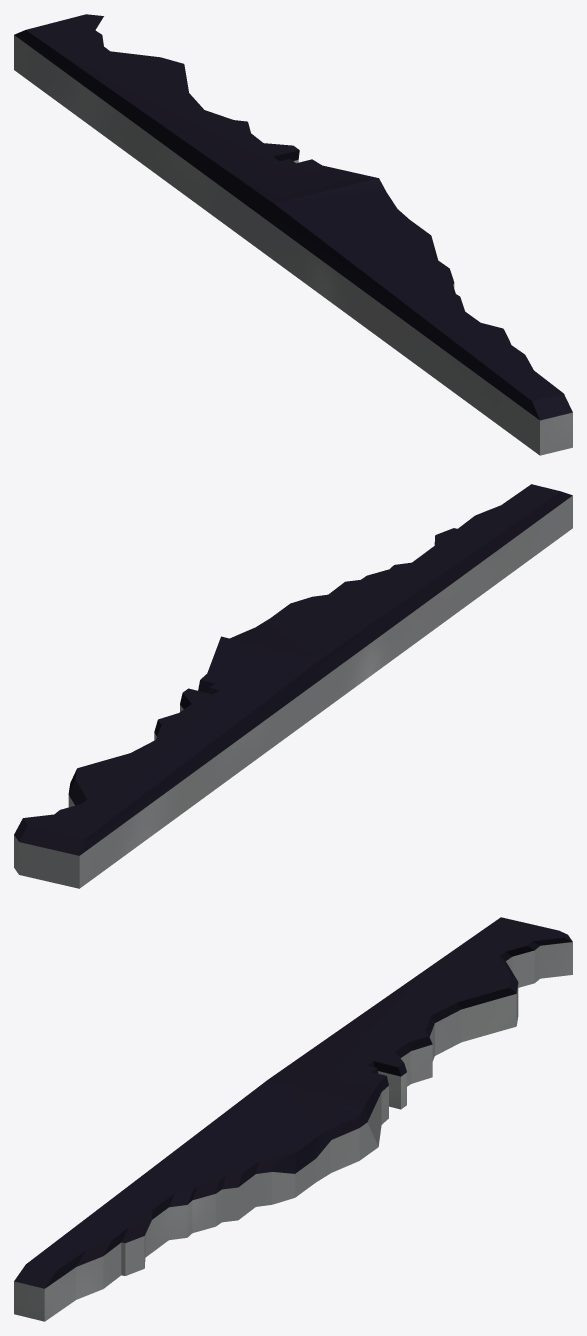
Rendered from SM_Rock3 1.fbx.
3 renders of one model, top to bottom at view 1: azimuth 30°, elevation 25°; view 2: azimuth 150°, elevation 25°; view 3: azimuth 330°, elevation 25°, orthographic. The views are drawn at different scales.
Parts seen in each view (by area): view 1: Rock3; view 2: Rock3; view 3: Rock3.
Boxes of the visible parts, x1=… form: Rock3: x1=14, y1=14, x2=572, y2=455; Rock3: x1=14, y1=484, x2=572, y2=888; Rock3: x1=14, y1=917, x2=572, y2=1321.
Bounding box in the file's own units: 977 × 467 × 8159.
